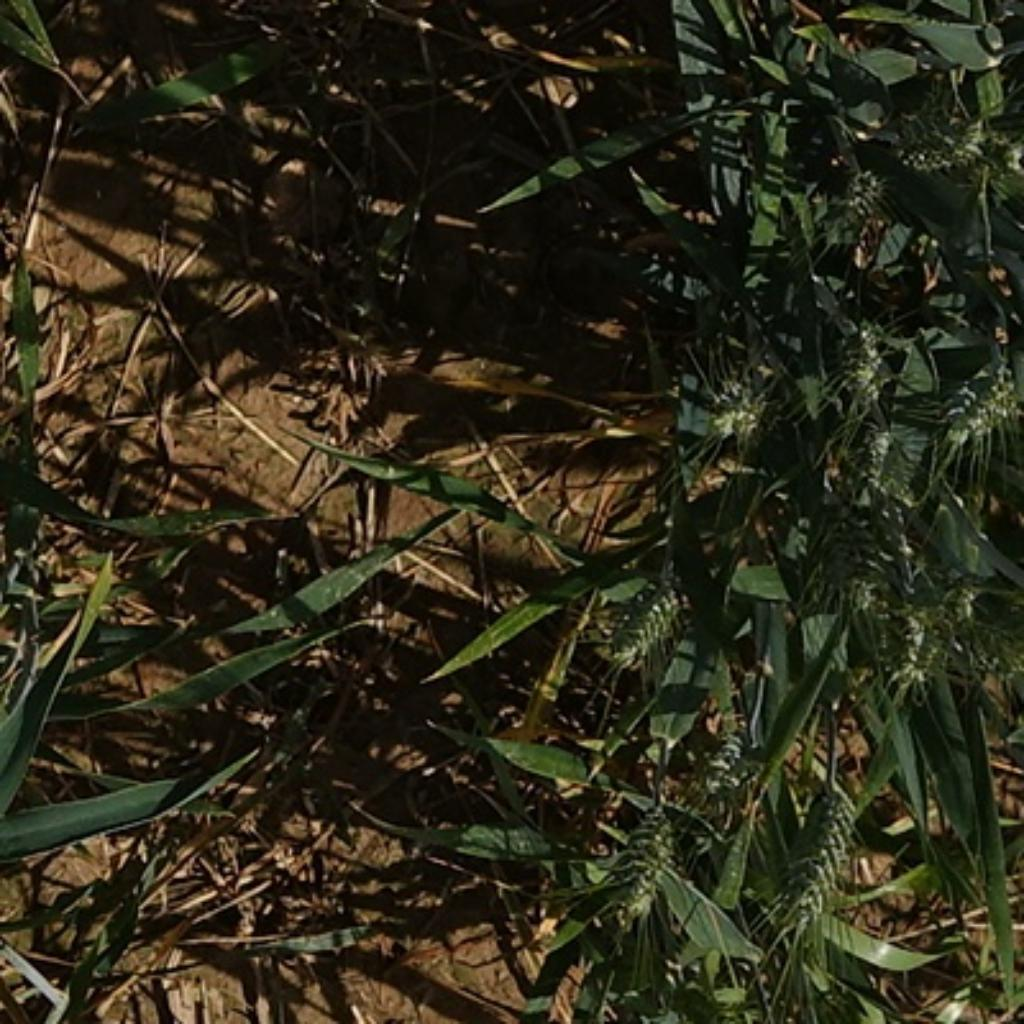0-0: (844, 576, 970, 709), (663, 701, 783, 832), (875, 84, 1024, 189), (760, 794, 867, 921), (780, 501, 879, 611), (606, 788, 688, 911), (596, 568, 688, 668), (931, 365, 1024, 463), (793, 158, 888, 248), (851, 417, 948, 500), (809, 317, 890, 411), (696, 363, 780, 448), (974, 575, 1023, 698)
